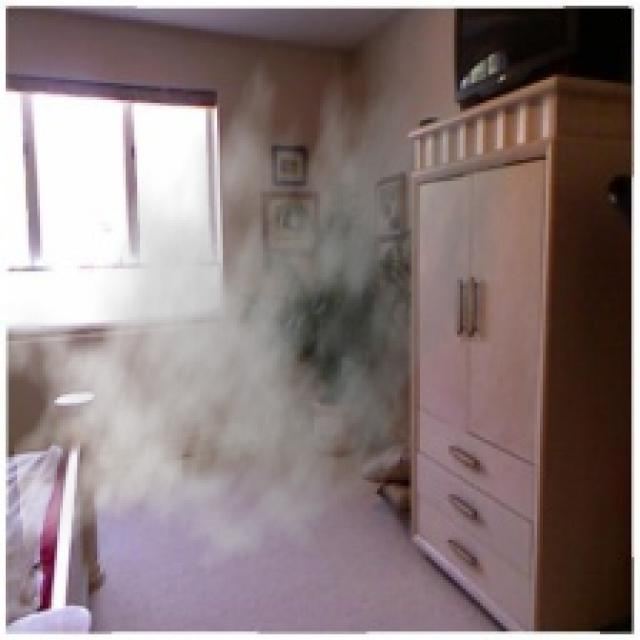smoke: (0, 23, 517, 591)
